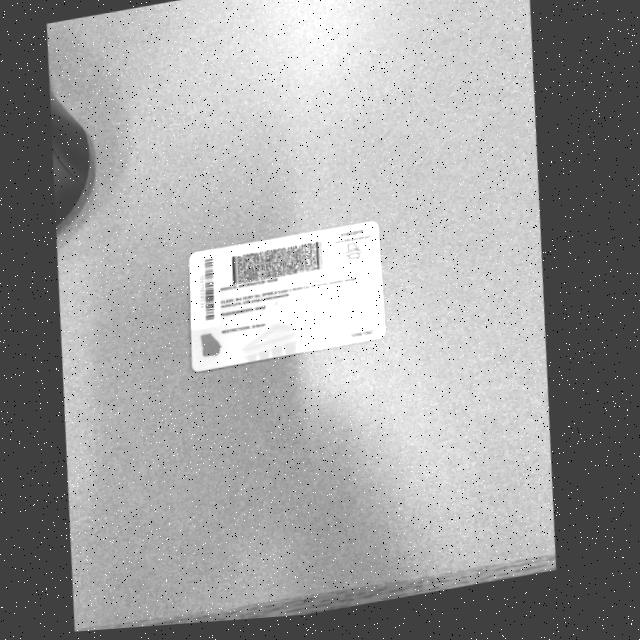card: (190, 222, 385, 371)
